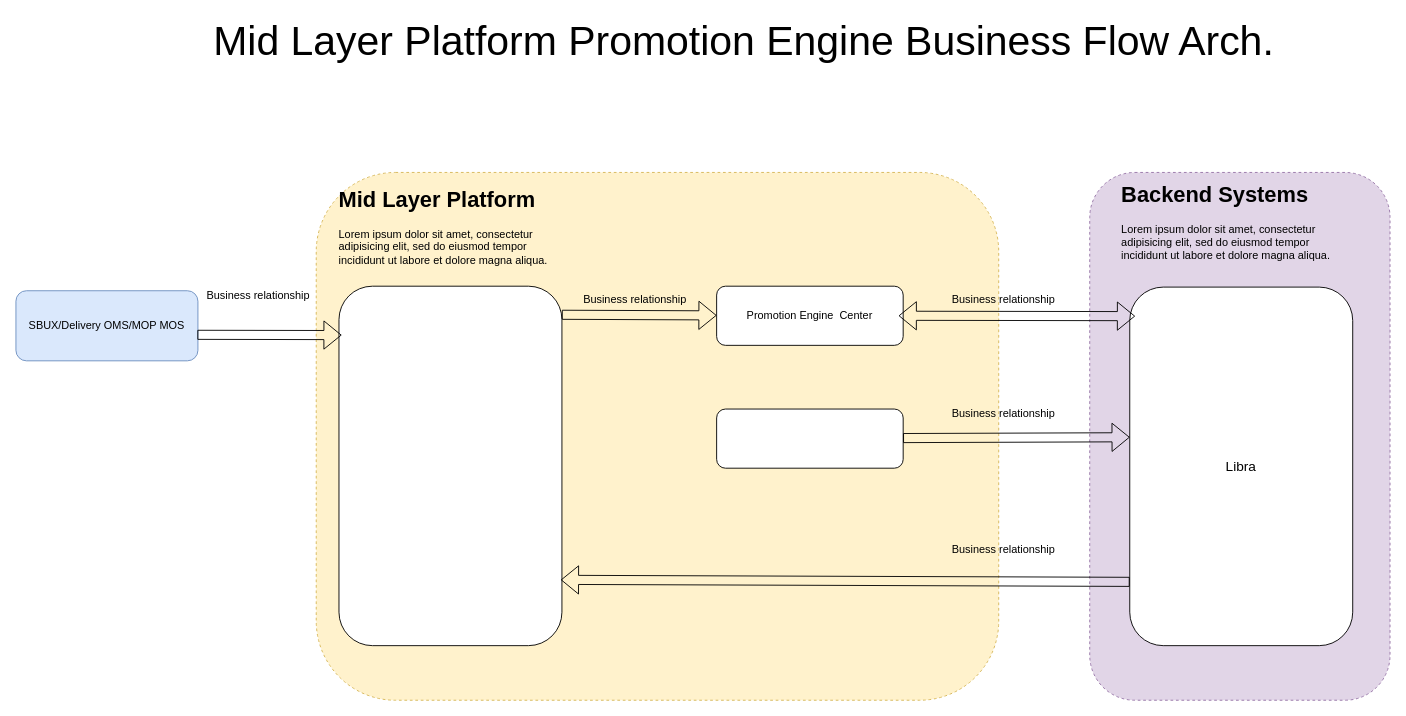
Image size: 1406x716. Some labels were removed from this diagram. The centre of each missing label's shape, as x and y in pixels:
Common Service Center - API Gate way: pixel 450 465
Order Center: pixel 809 438
